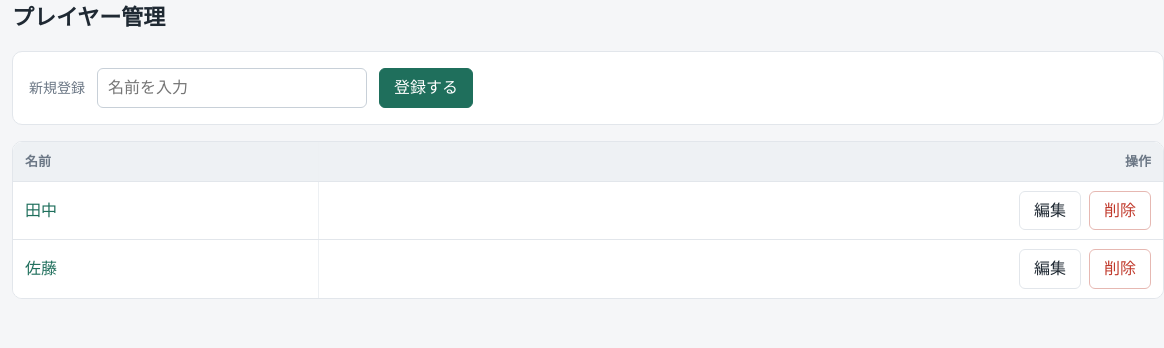
Test: 新規登録 › API が入力エラーを返したら、そのメッセージを表示し、入力は残す
This screenshot has width=1164, height=348.
Expected: the link "田中" is shown, [25,200,57,220]
Type "田中" into the field labelled "新規登録" at (232, 88), box [97,68,367,108]
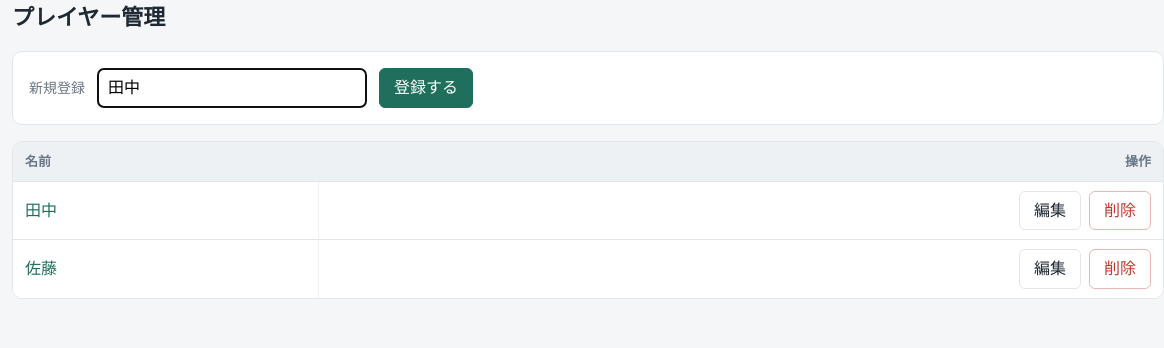
Click the button "登録する" at (426, 88), box [379,68,473,108]
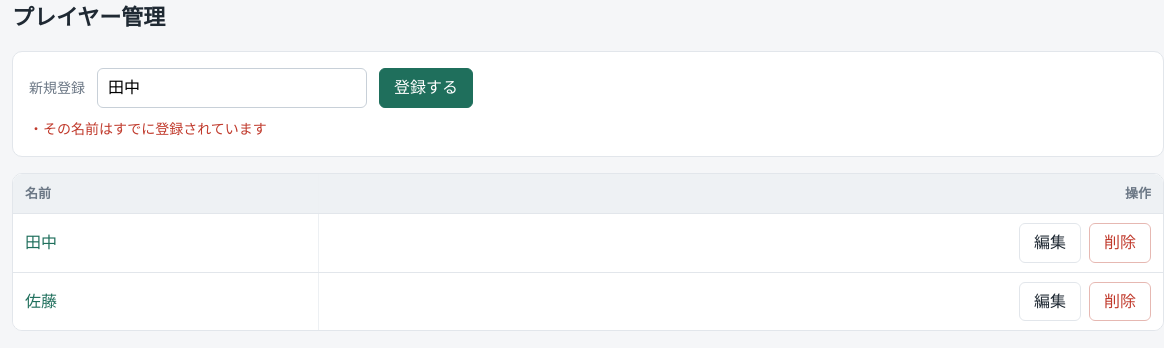
Expected: the text "その名前はすでに登録されています" is shown, [43,120,267,137]
